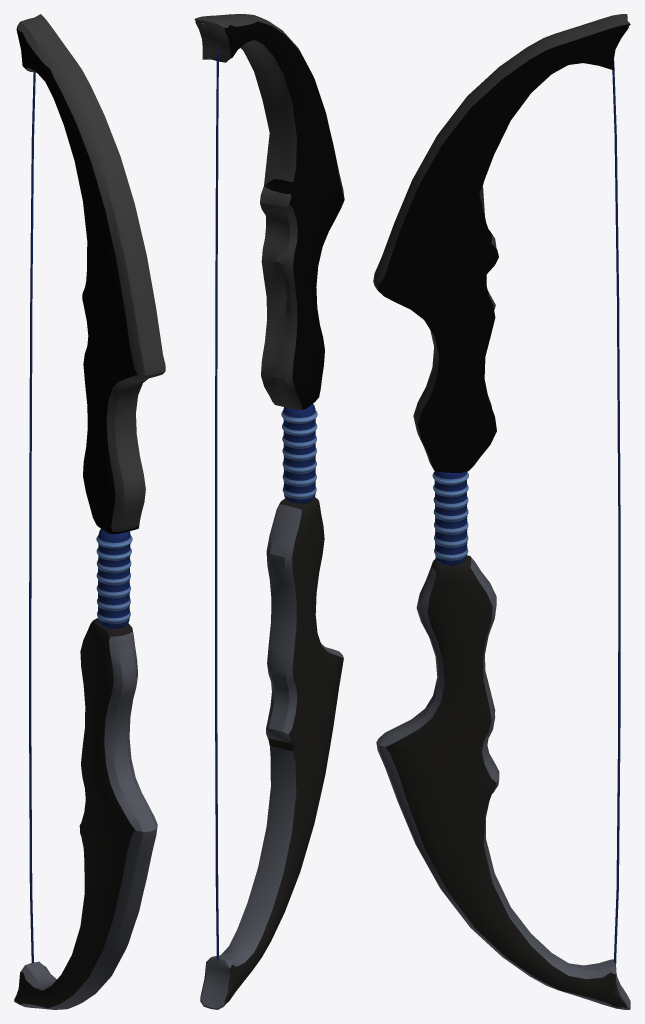
File: bow.fbx
3 renders of one model, left to right at view 1: azimuth 30°, elevation 25°; view 2: azimuth 150°, elevation 25°; view 3: azimuth 270°, elevation 25°, orthographic.
Visible parts, largest first — view 1: Plane; view 2: Plane; view 3: Plane.
Boxes of the visible parts, x1,y1,x2,y2 form: Plane: [14, 14, 165, 1009]; Plane: [194, 14, 344, 1009]; Plane: [373, 14, 630, 1009].
Bounding box in the file's own units: 9.05 × 269 × 63.46.
